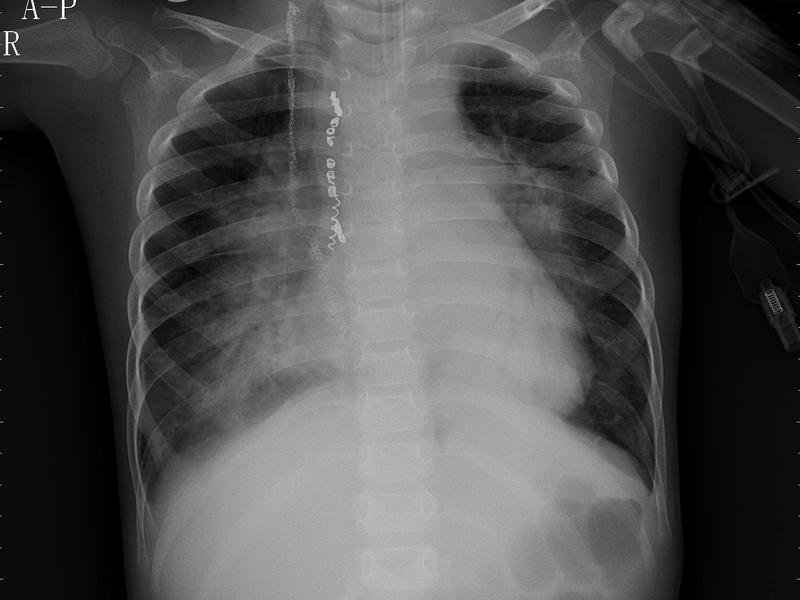PNEUMONIA: (219, 156, 317, 409), (557, 251, 667, 446), (499, 137, 592, 238)
